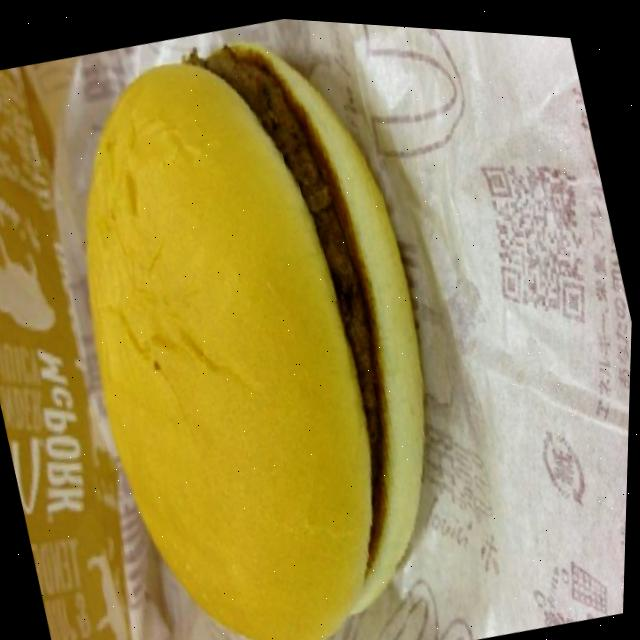汉堡快餐: (17, 2, 503, 640)
